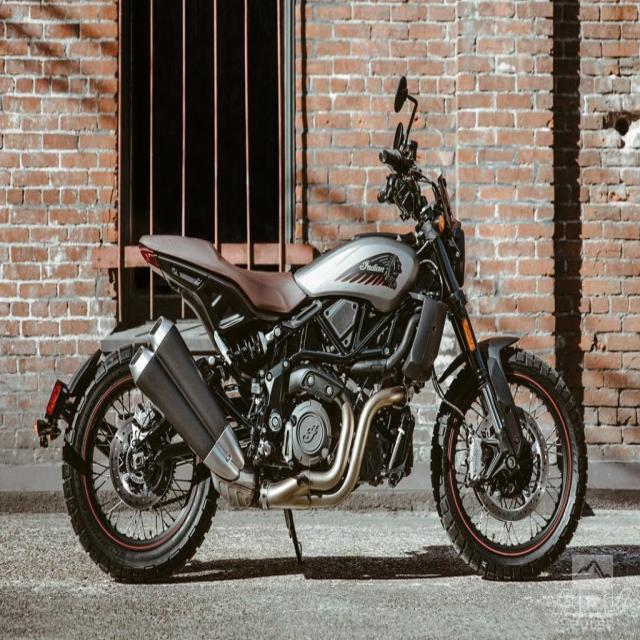motorcycle: (36, 77, 588, 580)
